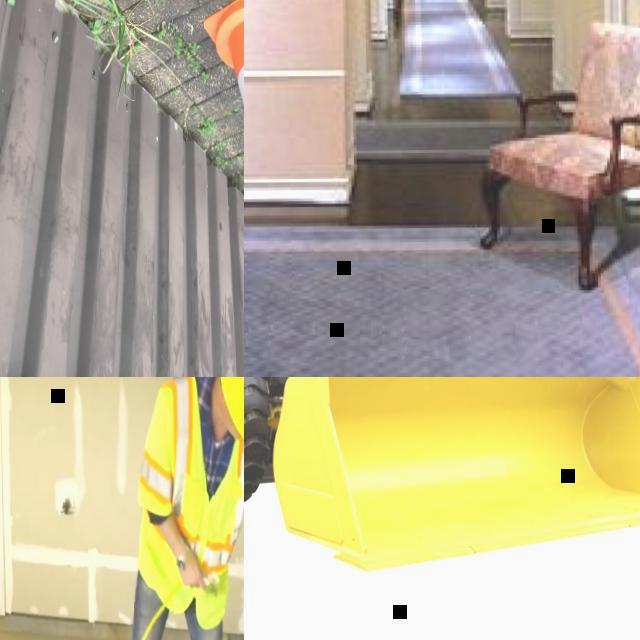helmet: (219, 377, 244, 439)
machinery: (244, 377, 640, 583)
no_mask: (224, 424, 242, 442)
person: (92, 377, 244, 640)
safety_cone: (202, 0, 244, 161)
vest: (137, 377, 244, 631)
